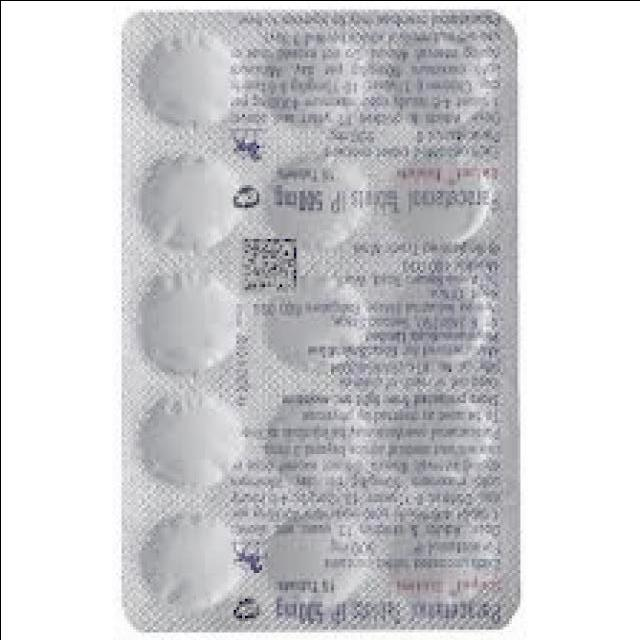authentic: (104, 6, 531, 640)
